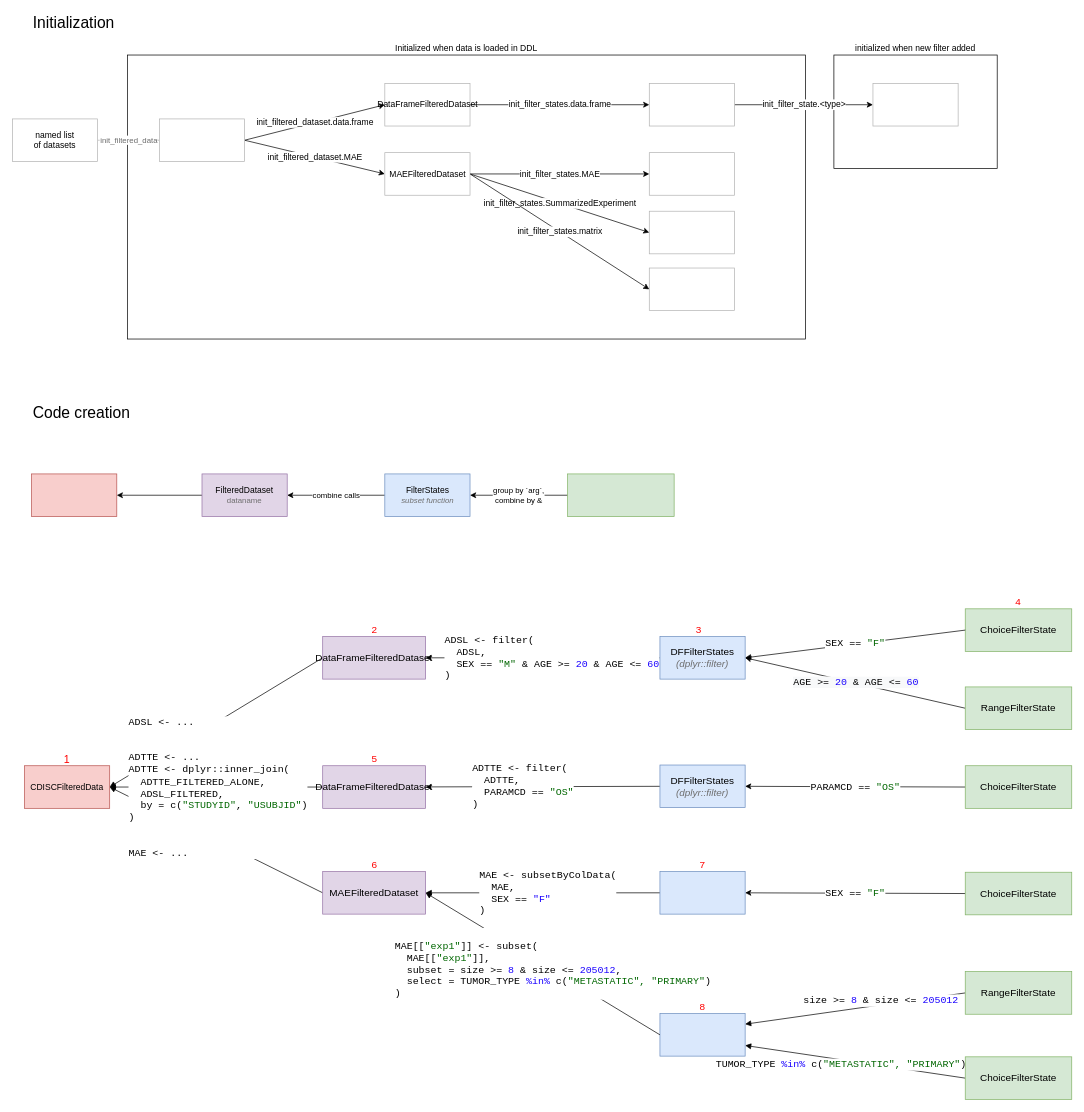
This 1084x1112 diagram has some shape labels left out. Each missing label, with the centre of its shape:
"<type>FilterState" goes at point (915, 104).
"DFFilterStates" goes at point (691, 104).
"FilterData" goes at point (202, 140).
"FilteredData" goes at point (74, 495).
"FIlterState logical expression" goes at point (620, 495).
"MAEFilterStates" goes at point (691, 173).
"MAEFilterStates (subsetByColData)" goes at point (702, 892).
"MatrixFilterStates" goes at point (691, 289).
"SEFilterStates" goes at point (691, 232).
"SEFilterStates (subset)" goes at point (702, 1034).
